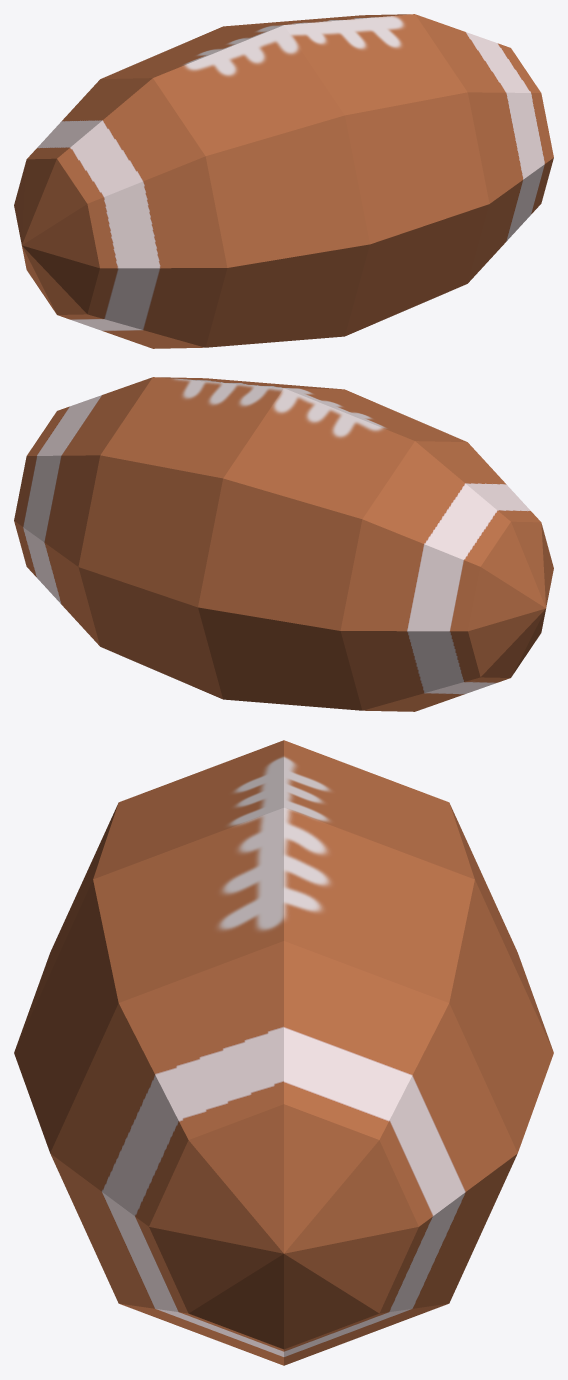
The model's file is football.glb.
3 renders of one model, top to bottom at view 1: azimuth 30°, elevation 25°; view 2: azimuth 150°, elevation 25°; view 3: azimuth 270°, elevation 25°, orthographic. The views are drawn at different scales.
Visible parts, largest first — view 1: Sphere; view 2: Sphere; view 3: Sphere.
Part boxes in pixels (x1,y1,x2,y2): Sphere: (14,14,553,348); Sphere: (14,377,553,711); Sphere: (14,740,553,1365).
Size of the model in its own units: 0.7639 by 0.4354 by 0.4343.
Materials: 1 (1 with a texture image).
